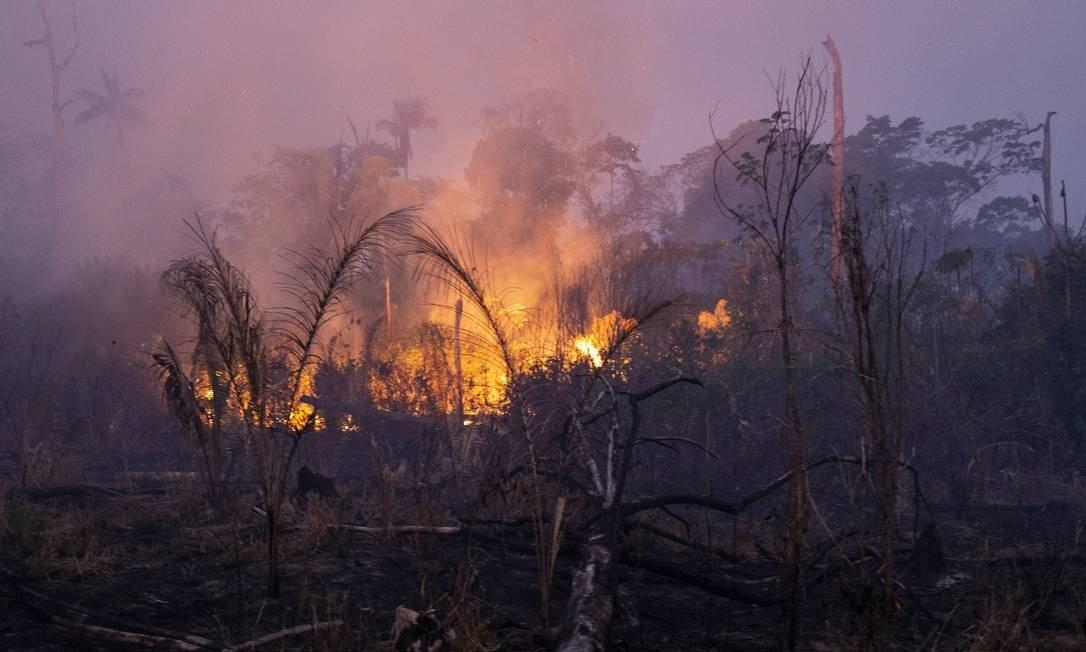Fire: (394, 305, 626, 414), (288, 366, 326, 429), (704, 299, 731, 330), (194, 375, 219, 401)
